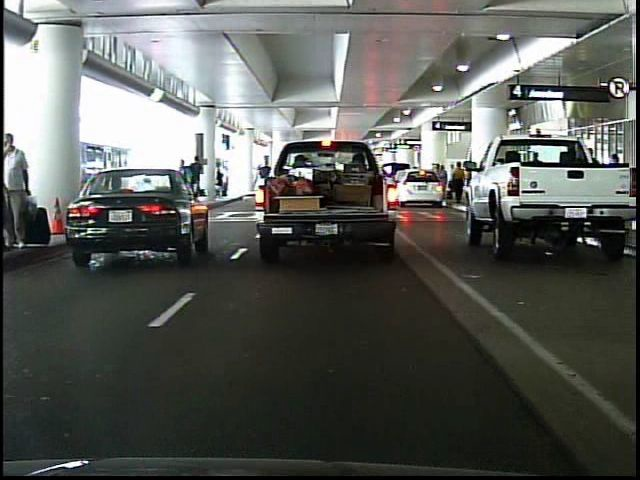person: (6, 130, 38, 250), (171, 154, 203, 225), (192, 154, 206, 185)
